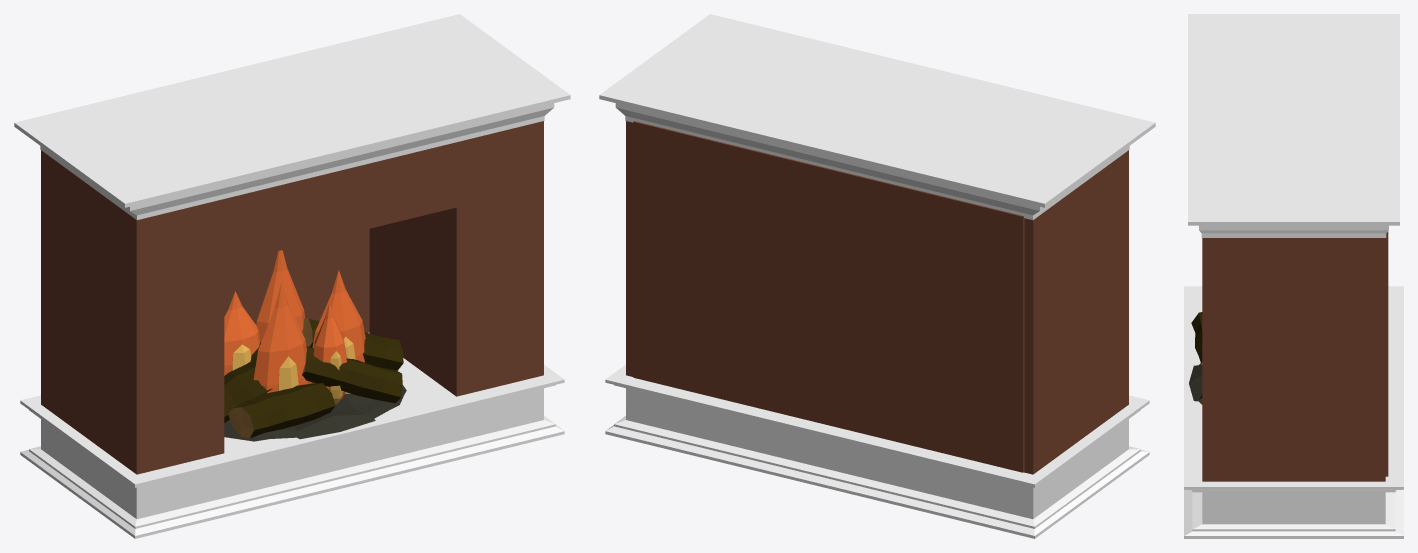
File: fireplace.gltf
3 views of the same model, side by side, from view 1: azimuth 30°, elevation 25°; view 2: azimuth 150°, elevation 25°; view 3: azimuth 270°, elevation 25° (orthographic). The views are drawn at different scales.
Visible parts, largest first — view 1: fireplace; view 2: fireplace; view 3: fireplace.
Part boxes in pixels (x1,y1,x2,y2): fireplace: (14, 14, 570, 538); fireplace: (599, 14, 1155, 538); fireplace: (1184, 14, 1403, 538).
Bounding box in the file's own units: 1.45 × 1.04 × 0.6458.
